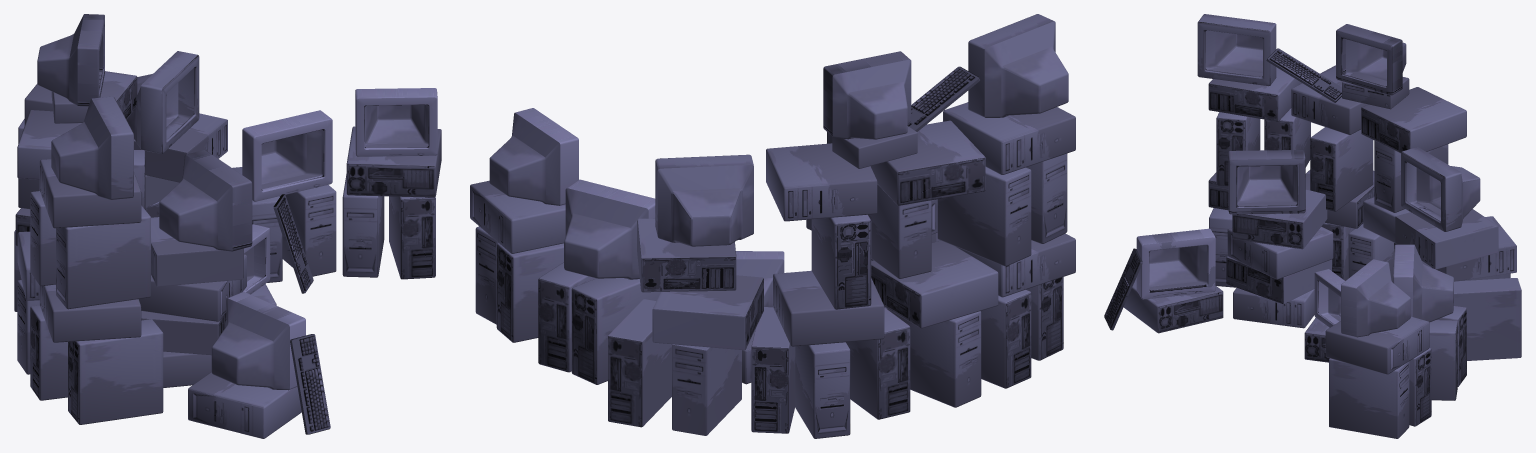
The model's file is asdasd.glb.
The picture shows the model from 3 angles, left to right: view 1: azimuth 30°, elevation 25°; view 2: azimuth 150°, elevation 25°; view 3: azimuth 270°, elevation 25°; orthographic projection. The views are drawn at different scales.
Visible parts, largest first — view 1: Object_221; view 2: Object_221; view 3: Object_221.
Part boxes in pixels (x1,y1,x2,y2): Object_221: (14,14,441,438); Object_221: (470,14,1075,438); Object_221: (1104,14,1521,438).
Bounding box in the file's own units: 4.75 × 2.97 × 4.25.
Materials: 1 (1 with a texture image).
